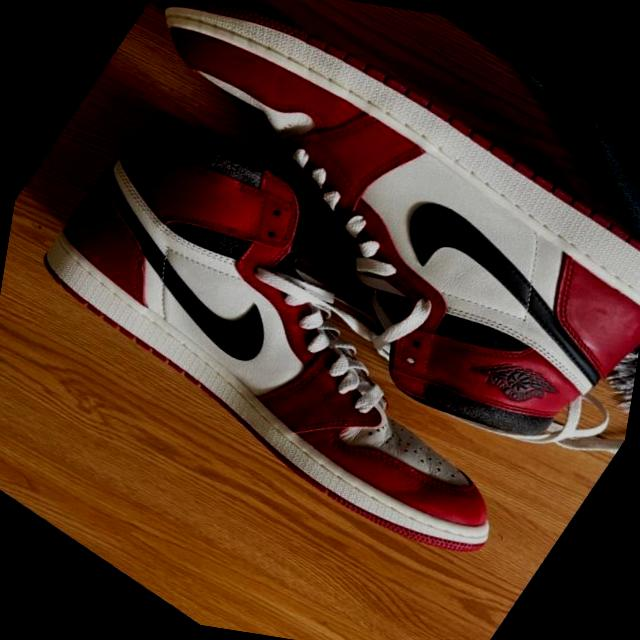nike_original_jordan: (0, 71, 632, 607), (20, 0, 640, 501)
